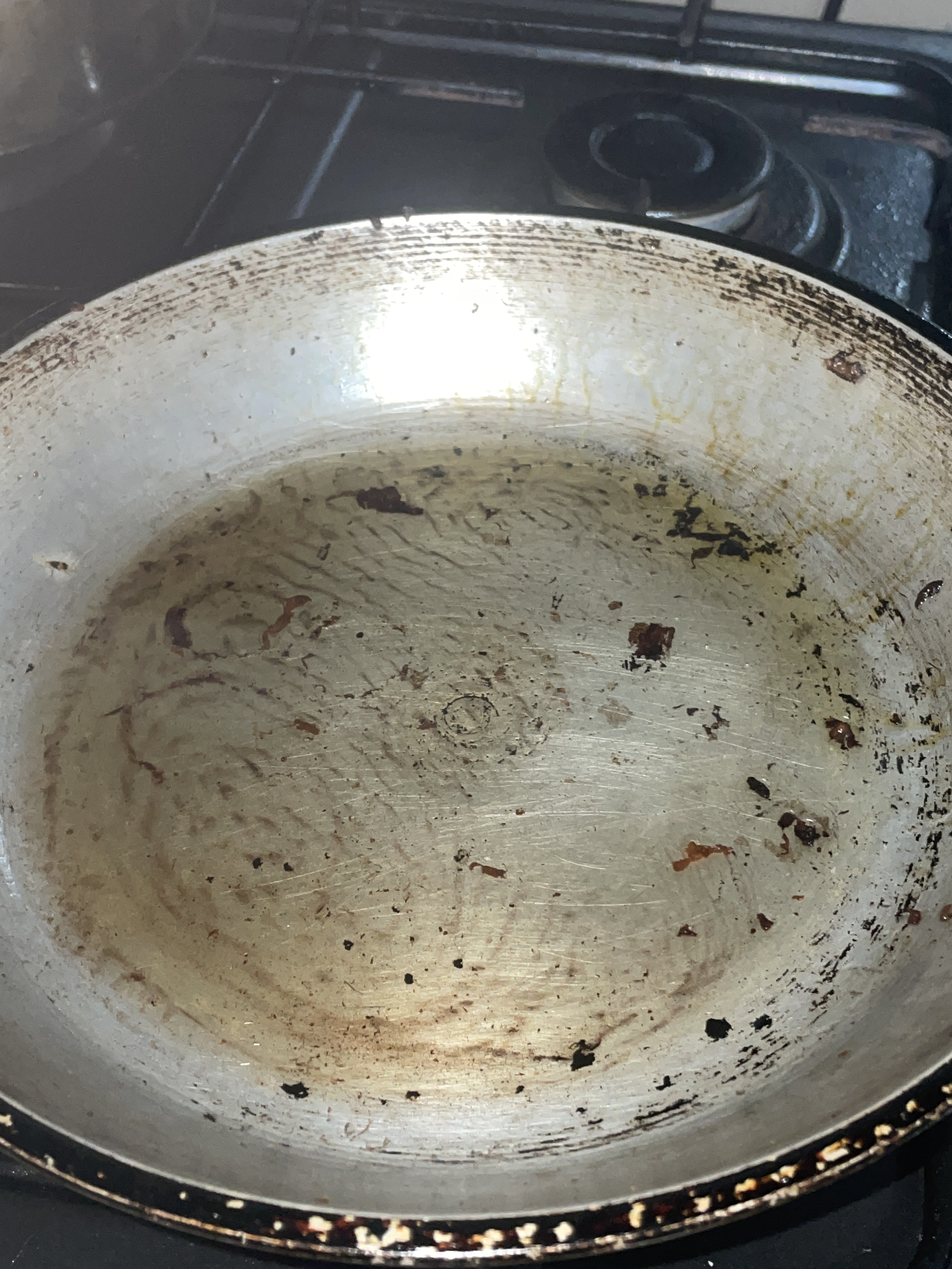reusable: (35, 437, 889, 1089)
